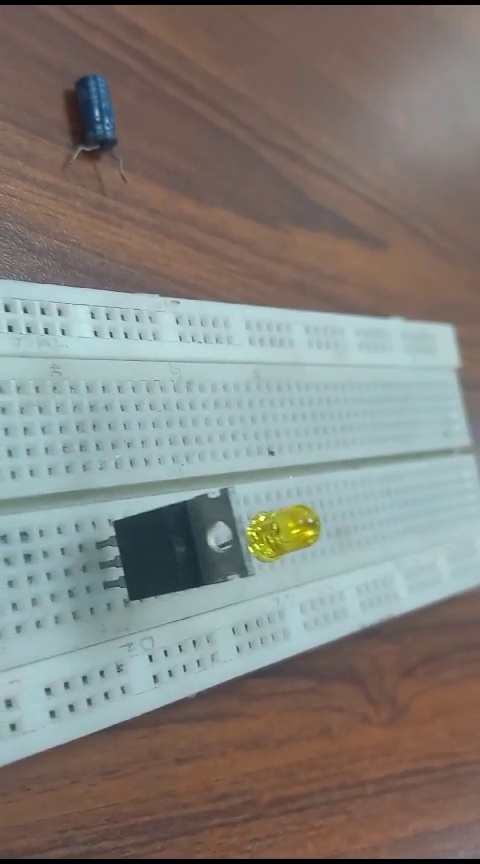LED: (246, 496, 326, 565)
voltage regulator: (92, 483, 255, 611)
